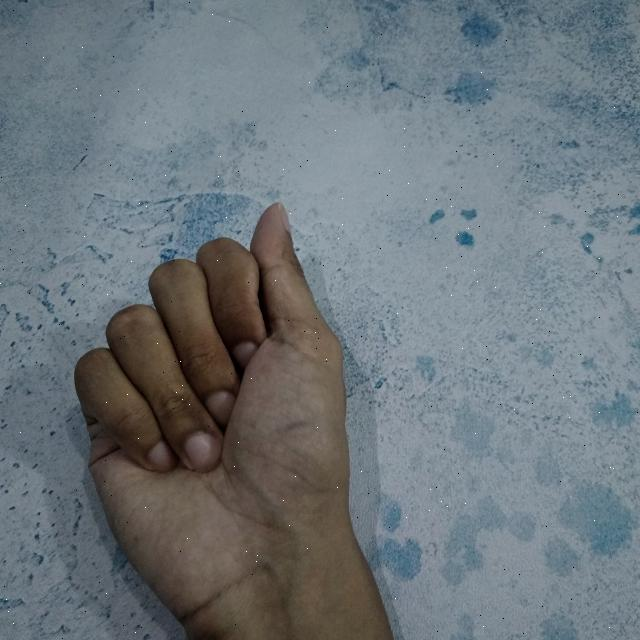A: (65, 197, 373, 640)
